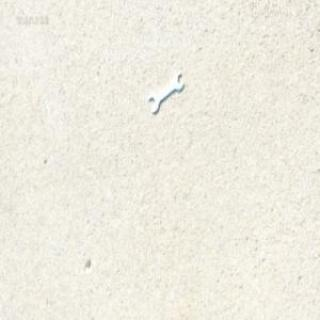Wrenchtrack_idkeyframe: (148, 71, 183, 113)
